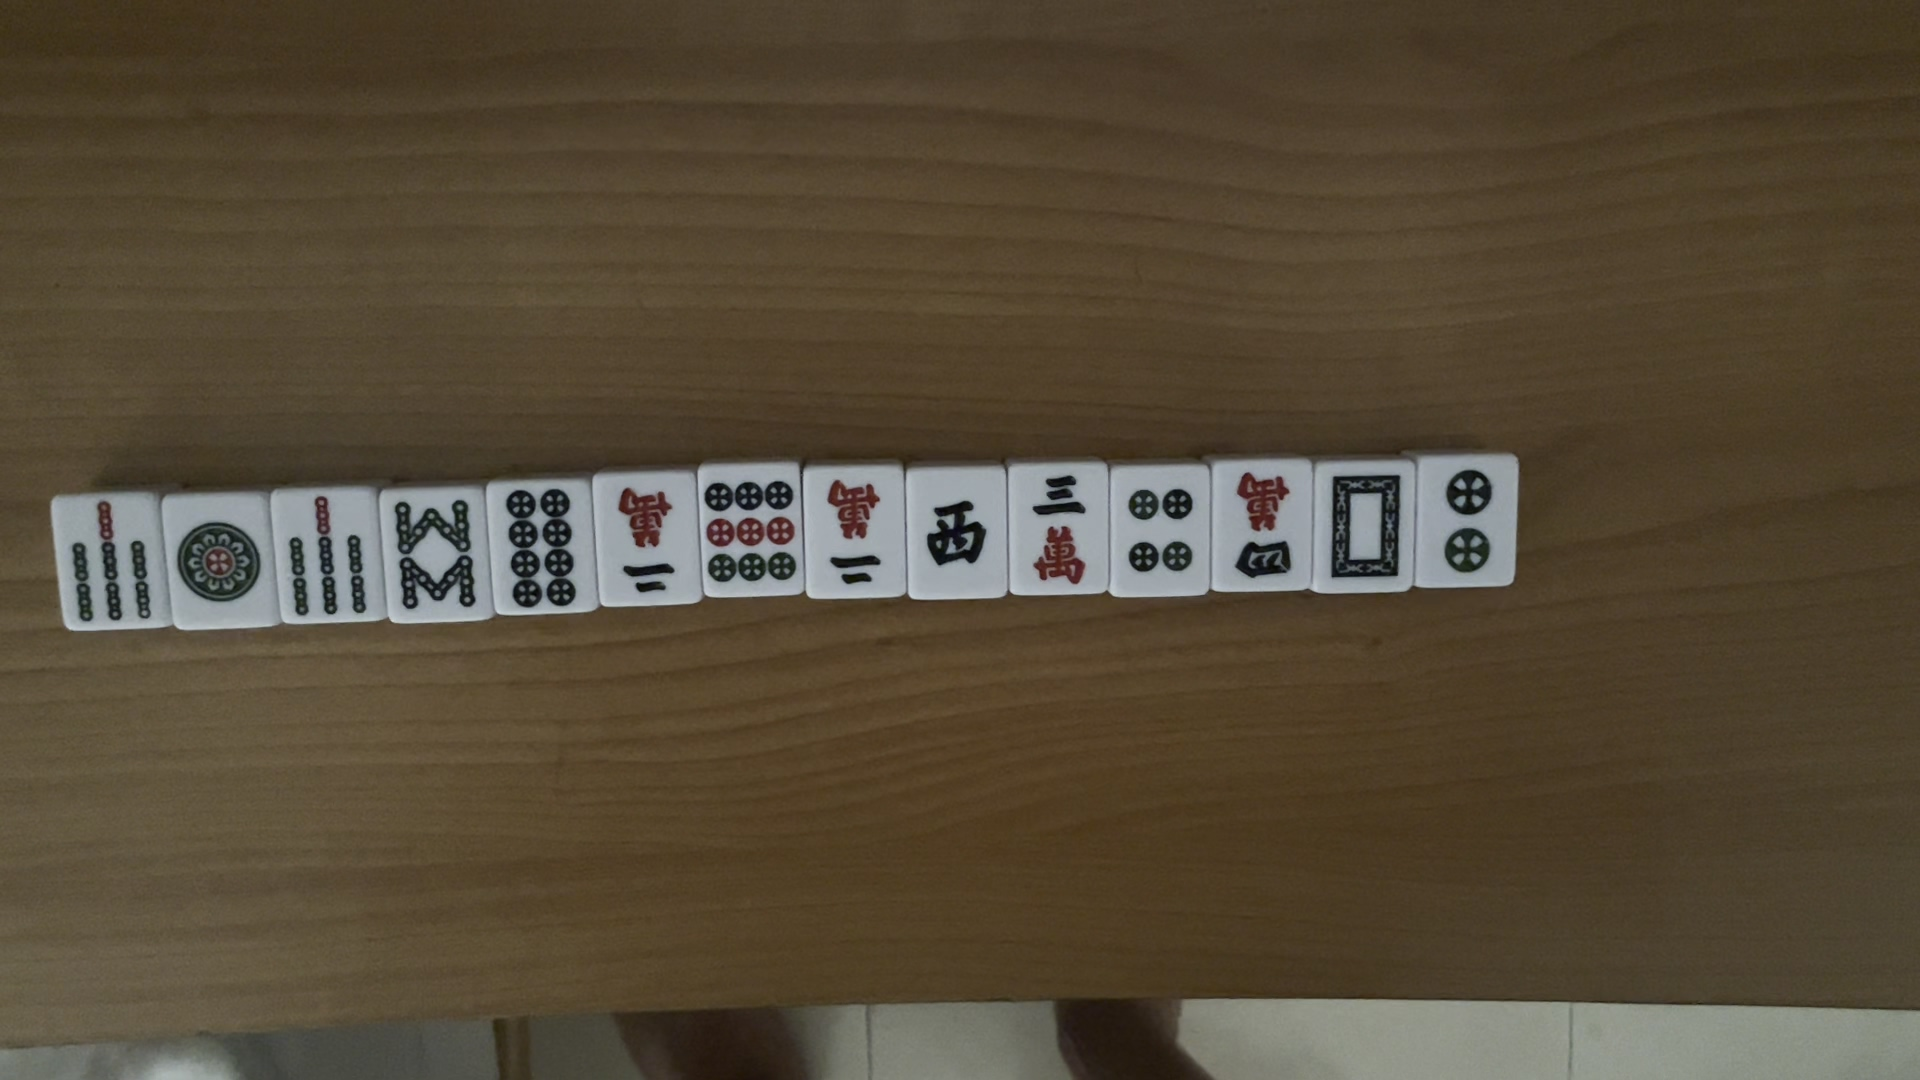b-7: (58, 496, 156, 626), (284, 489, 376, 622)
b-8: (389, 493, 487, 615)
c-2: (816, 473, 887, 596), (609, 473, 680, 595)
c-3: (1031, 472, 1102, 582)
c-4: (1228, 473, 1296, 583)
d-1: (178, 514, 261, 609)
d-2: (1439, 464, 1499, 576)
d-4: (1122, 479, 1199, 582)
d-8: (489, 488, 591, 611)
d-9: (702, 477, 793, 585)
hornors-west: (920, 493, 992, 572)
hornors-white: (1325, 467, 1407, 589)
